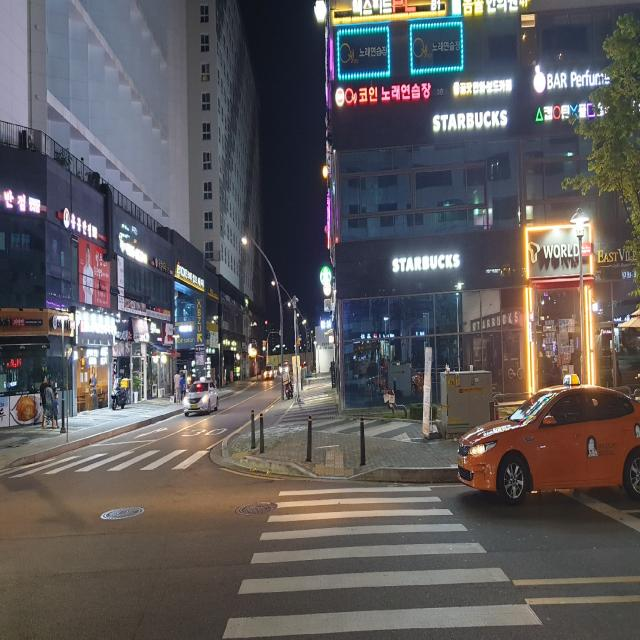횡단보도: (220, 483, 544, 640), (0, 443, 210, 480)
